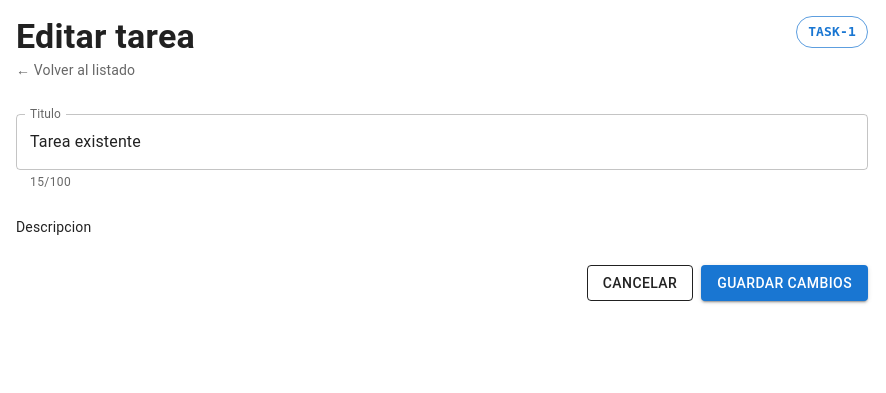
Test: EditTaskPage › muestra error si repo.update falla
Step 1. Click the button "Guardar cambios" → (785, 283), box top-left (701, 265), bottom-right (868, 301)
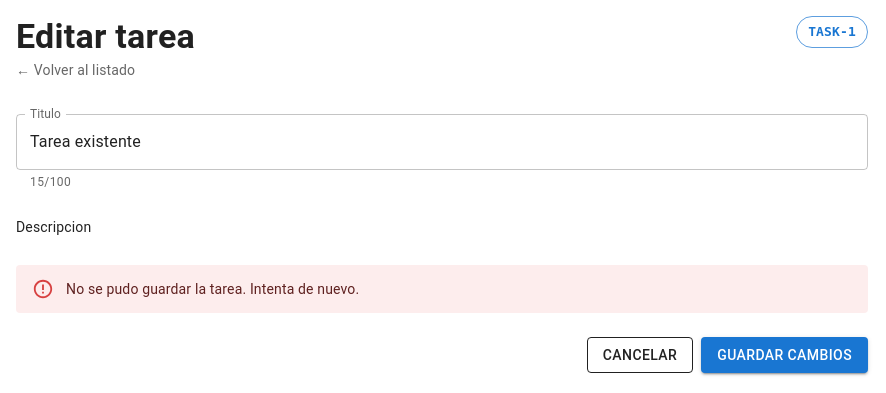
expect the message shows "No se pudo guardar": met, box top-left (66, 281), bottom-right (359, 297)
